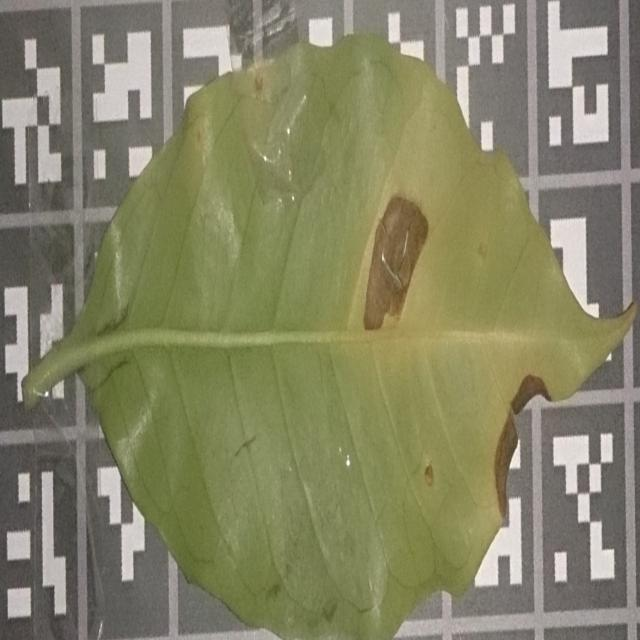Enfermedad-Mancha-de-hierro: (22, 32, 637, 640)
